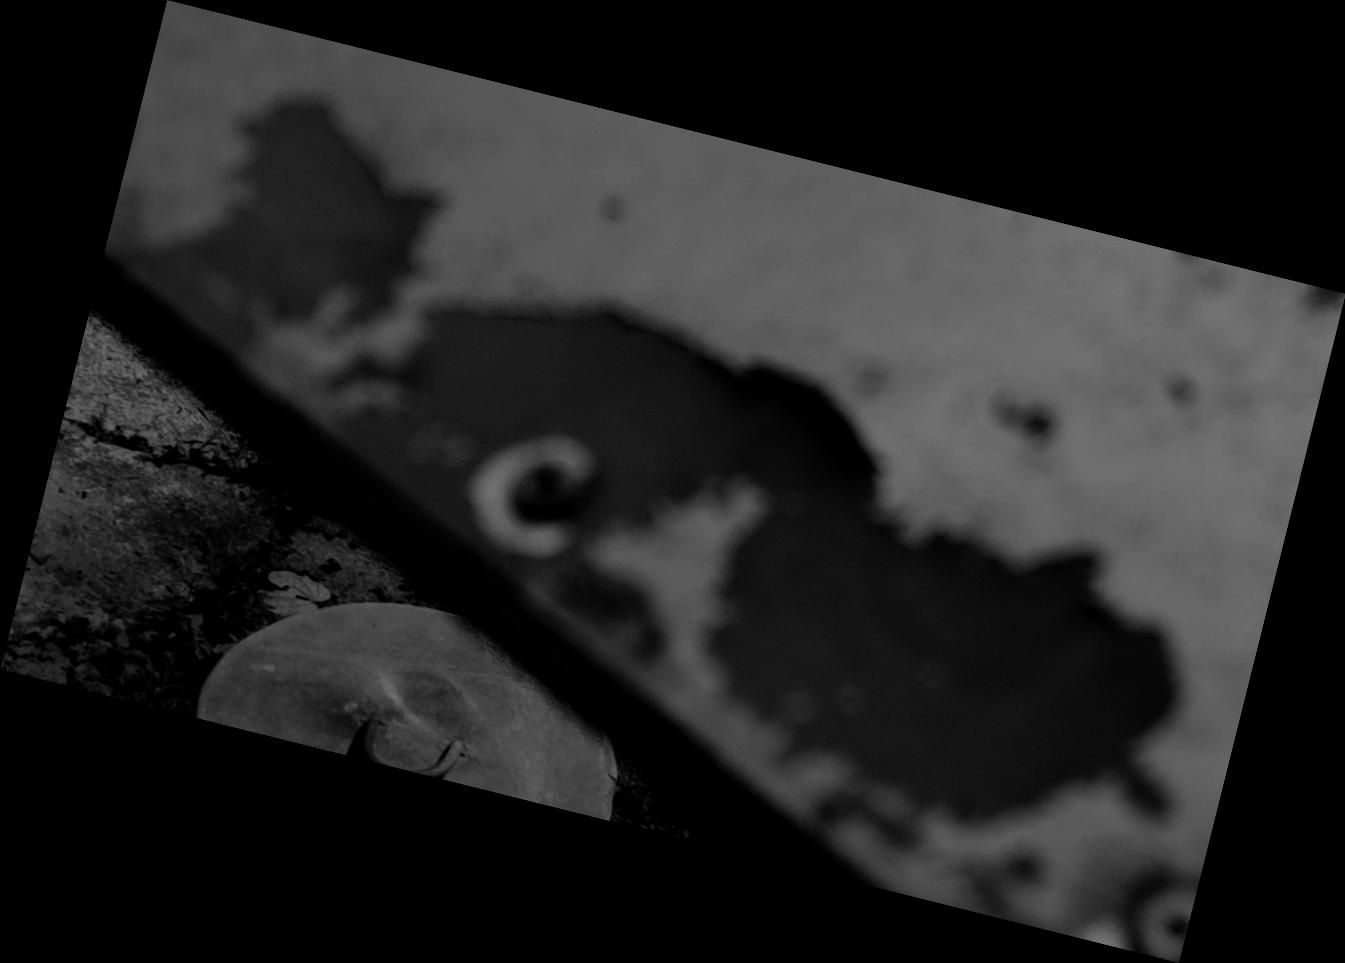paint-off: (0, 1, 1345, 963)
